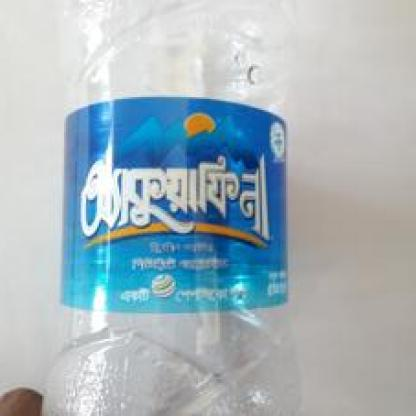bottle: (44, 0, 330, 414)
